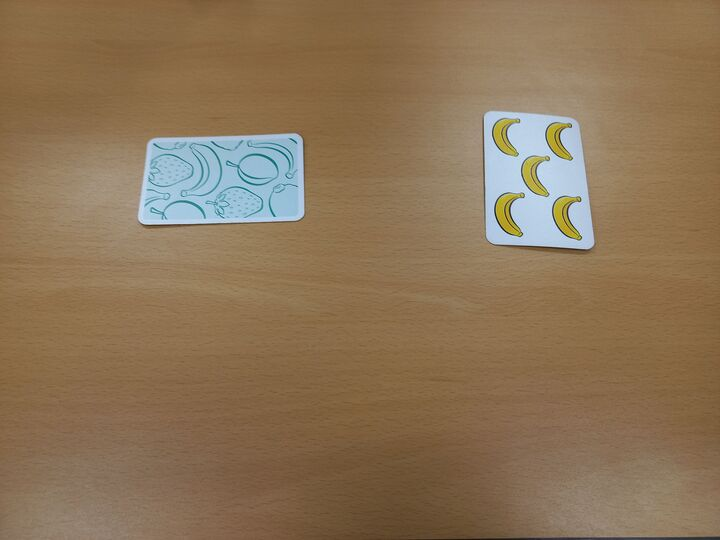banana5: (481, 109, 597, 252)
